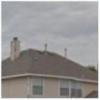chimneys: (10, 36, 21, 60)
